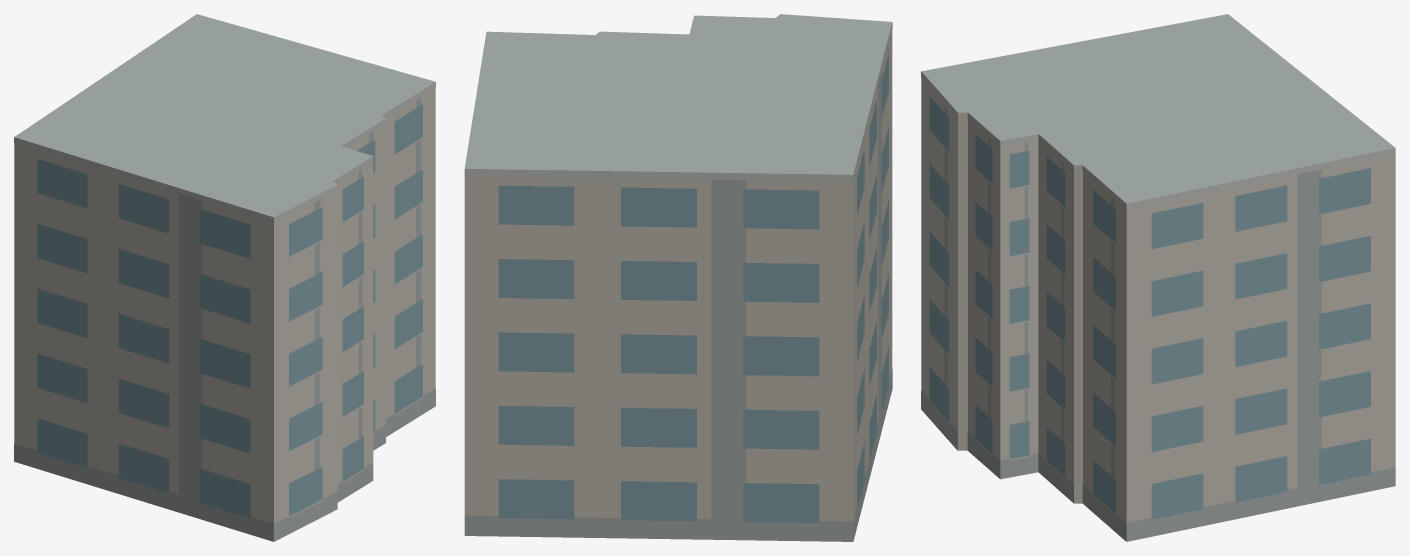
File: survey-upis-32477419.glb
3 views of the same model, side by side, from view 1: azimuth 30°, elevation 25°; view 2: azimuth 150°, elevation 25°; view 3: azimuth 270°, elevation 25° (orthographic). The views are drawn at different scales.
Visible parts, largest first — view 1: survey-upis-32477419.tmp; view 2: survey-upis-32477419.tmp; view 3: survey-upis-32477419.tmp.
Part boxes in pixels (bbox=[...]): survey-upis-32477419.tmp: bbox=[14, 14, 435, 541]; survey-upis-32477419.tmp: bbox=[464, 14, 892, 541]; survey-upis-32477419.tmp: bbox=[921, 14, 1395, 541].
Bounding box in the file's own units: 15.89 × 13.2 × 16.79.
